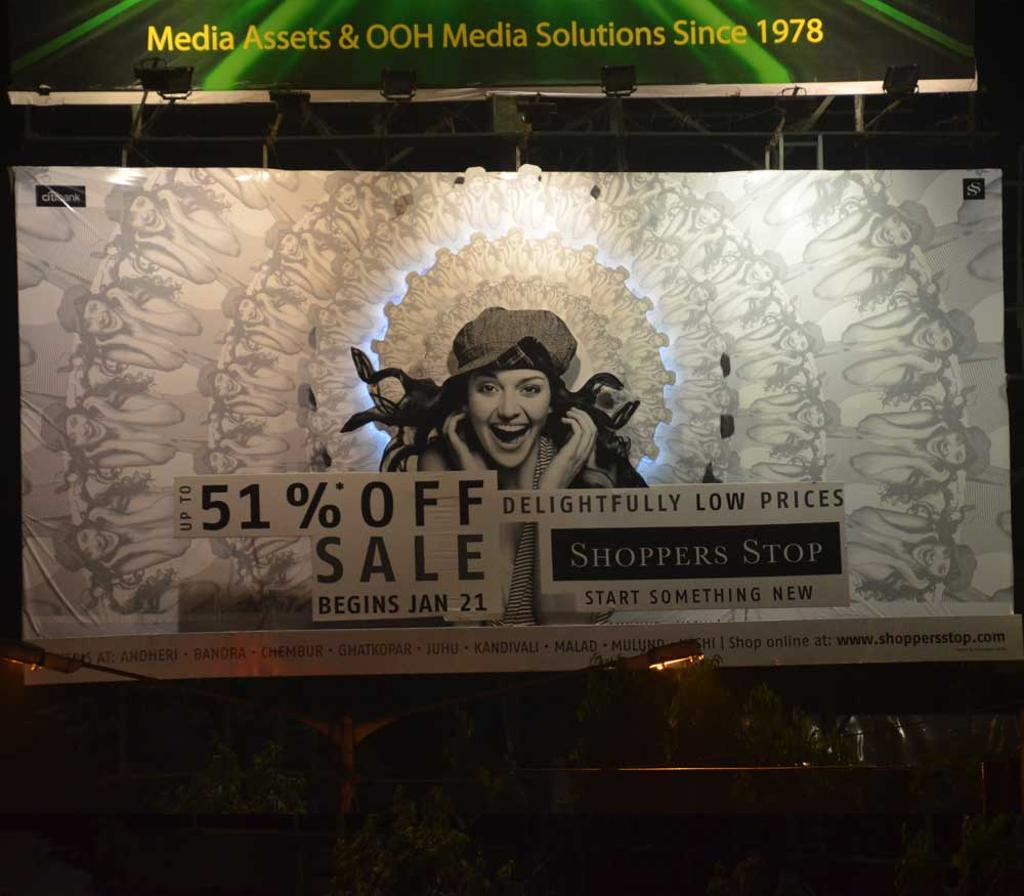face: (475, 351, 557, 465)
